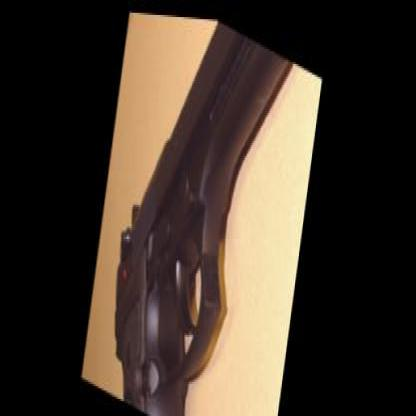pistol: (92, 6, 306, 412)
